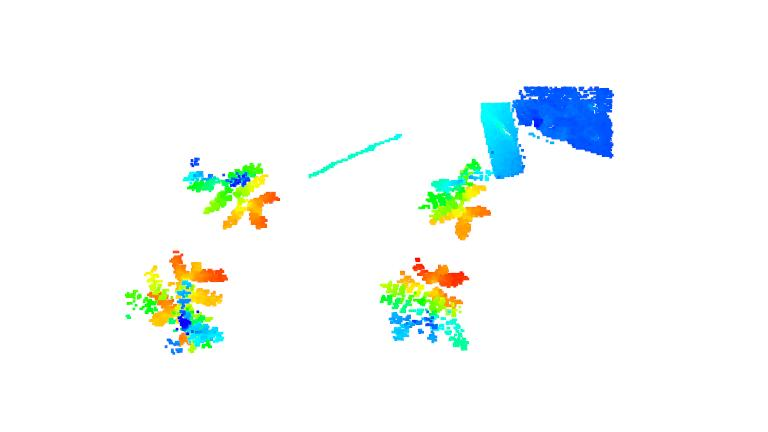chickpea: (120, 252, 226, 356), (380, 262, 469, 352), (185, 151, 278, 229), (422, 162, 493, 238)
